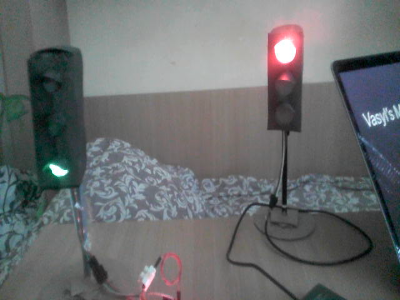trafficlight_green: (30, 52, 78, 186)
trafficlight_red: (268, 30, 302, 130)
